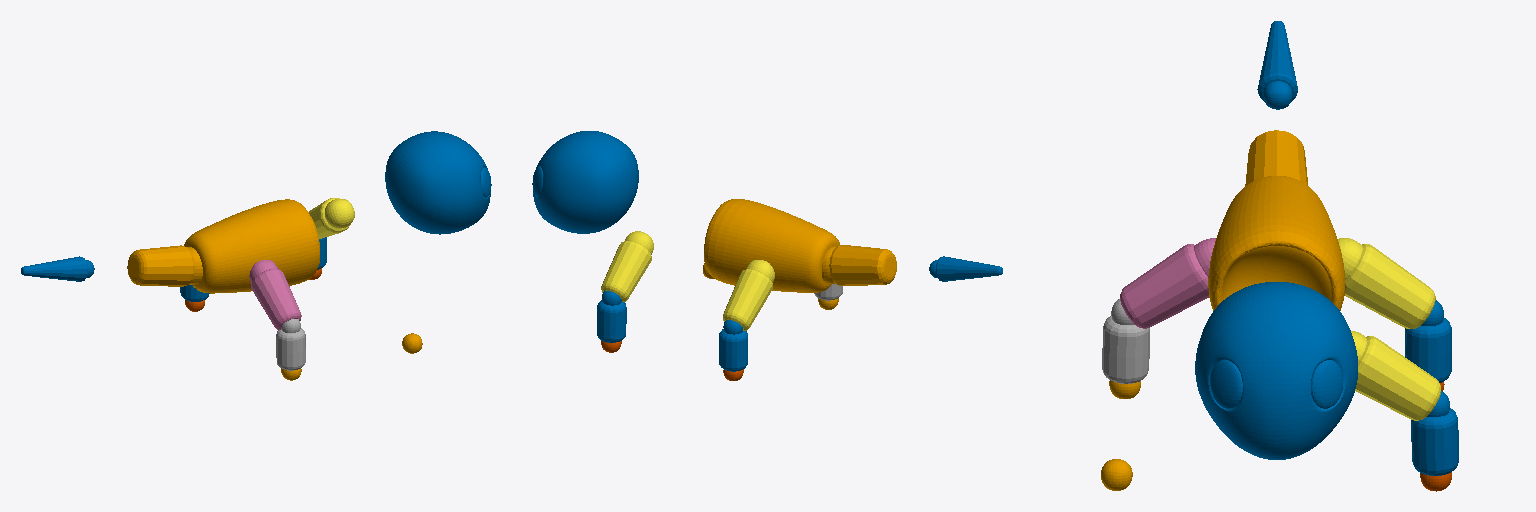
The robot description file, URDF, robot "lizard_robot":
<?xml version="1.0"?>
<robot name="lizard_robot">
  <link name="base_link">
    <inertial>
      <origin xyz="-0.562282 -0.000000 0.000041" rpy="0 0 0"/>
      <mass value="11.2332"/>
      <inertia ixx="0.859276" ixy="0" ixz="0" iyy="1.332609" iyz="0" izz="1.332609"/>
    </inertial>
    <visual>
      <origin xyz="0 0 0" rpy="0 0 0"/>
      <geometry><mesh filename="meshes/visual/base_link_visual.obj"/></geometry>
    </visual>
    <collision>
      <origin xyz="0 0 0" rpy="0 0 0"/>
      <geometry><mesh filename="meshes/collision/base_link_collision.obj"/></geometry>
    </collision>
  </link>
  <link name="chest_yaw">
    <inertial>
      <origin xyz="0.000000 0.000000 0.000000" rpy="0 0 0"/>
      <mass value="0.0500"/>
      <inertia ixx="0.000001" ixy="0" ixz="0" iyy="0.000001" iyz="0" izz="0.000001"/>
    </inertial>
  </link>
  <link name="chest_pitch">
    <inertial>
      <origin xyz="0.349711 -0.000000 0.000041" rpy="0 0 0"/>
      <mass value="15.7685"/>
      <inertia ixx="1.296527" ixy="0" ixz="0" iyy="2.740834" iyz="0" izz="2.740834"/>
    </inertial>
    <visual>
      <origin xyz="0 0 0" rpy="0 0 0"/>
      <geometry><mesh filename="meshes/visual/chest_pitch_visual.obj"/></geometry>
    </visual>
    <collision>
      <origin xyz="0 0 0" rpy="0 0 0"/>
      <geometry><mesh filename="meshes/collision/chest_pitch_collision.obj"/></geometry>
    </collision>
  </link>
  <link name="neck_yaw">
    <inertial>
      <origin xyz="0.000000 0.000000 0.000000" rpy="0 0 0"/>
      <mass value="0.0500"/>
      <inertia ixx="0.000001" ixy="0" ixz="0" iyy="0.000001" iyz="0" izz="0.000001"/>
    </inertial>
  </link>
  <link name="neck_pitch">
    <inertial>
      <origin xyz="-0.081966 -0.000000 0.001171" rpy="0 0 0"/>
      <mass value="11.0551"/>
      <inertia ixx="1.225541" ixy="0" ixz="0" iyy="1.263723" iyz="0" izz="1.239014"/>
    </inertial>
    <visual>
      <origin xyz="0 0 0" rpy="0 0 0"/>
      <geometry><mesh filename="meshes/visual/neck_pitch_visual.obj"/></geometry>
    </visual>
    <collision>
      <origin xyz="0 0 0" rpy="0 0 0"/>
      <geometry><mesh filename="meshes/collision/neck_pitch_collision.obj"/></geometry>
    </collision>
  </link>
  <link name="rf_hip">
    <inertial>
      <origin xyz="0.000000 0.000000 0.000000" rpy="0 0 0"/>
      <mass value="0.0500"/>
      <inertia ixx="0.000001" ixy="0" ixz="0" iyy="0.000001" iyz="0" izz="0.000001"/>
    </inertial>
  </link>
  <link name="rf_haa">
    <inertial>
      <origin xyz="-0.000000 -0.167165 -0.114282" rpy="0 0 0"/>
      <mass value="2.9020"/>
      <inertia ixx="0.132824" ixy="0" ixz="0" iyy="0.072588" iyz="0" izz="0.099259"/>
    </inertial>
    <visual>
      <origin xyz="0 0 0" rpy="0 0 0"/>
      <geometry><mesh filename="meshes/visual/rf_haa_visual.obj"/></geometry>
    </visual>
    <collision>
      <origin xyz="0 0 0" rpy="0 0 0"/>
      <geometry><mesh filename="meshes/collision/rf_haa_collision.obj"/></geometry>
    </collision>
  </link>
  <link name="rf_hfe">
    <inertial>
      <origin xyz="0.000021 -0.004814 -0.136882" rpy="0 0 0"/>
      <mass value="1.6768"/>
      <inertia ixx="0.033990" ixy="0" ixz="0" iyy="0.033734" iyz="0" izz="0.015607"/>
    </inertial>
    <visual>
      <origin xyz="0 0 0" rpy="0 0 0"/>
      <geometry><mesh filename="meshes/visual/rf_hfe_visual.obj"/></geometry>
    </visual>
    <collision>
      <origin xyz="0 0 0" rpy="0 0 0"/>
      <geometry><mesh filename="meshes/collision/rf_hfe_collision.obj"/></geometry>
    </collision>
  </link>
  <link name="rf_kfe">
    <inertial>
      <origin xyz="0.000000 0.000000 0.000000" rpy="0 0 0"/>
      <mass value="0.3730"/>
      <inertia ixx="0.001553" ixy="0" ixz="0" iyy="0.001554" iyz="0" izz="0.001554"/>
    </inertial>
    <visual>
      <origin xyz="0 0 0" rpy="0 0 0"/>
      <geometry><mesh filename="meshes/visual/rf_kfe_visual.obj"/></geometry>
    </visual>
  </link>
  <link name="rf_foot">
    <inertial>
      <origin xyz="0.000004 -0.016158 0.008439" rpy="0 0 0"/>
      <mass value="1.5275"/>
      <inertia ixx="0.026315" ixy="0" ixz="0" iyy="0.021240" iyz="0" izz="0.040519"/>
    </inertial>
    <visual>
      <origin xyz="0 0 0" rpy="0 0 0"/>
      <geometry><mesh filename="meshes/visual/rf_foot_visual.obj"/></geometry>
    </visual>
    <collision>
      <origin xyz="0 0 0" rpy="0 0 0"/>
      <geometry><mesh filename="meshes/collision/rf_foot_collision.obj"/></geometry>
    </collision>
  </link>
  <link name="lf_hip">
    <inertial>
      <origin xyz="0.000000 0.000000 0.000000" rpy="0 0 0"/>
      <mass value="0.0500"/>
      <inertia ixx="0.000001" ixy="0" ixz="0" iyy="0.000001" iyz="0" izz="0.000001"/>
    </inertial>
  </link>
  <link name="lf_haa">
    <inertial>
      <origin xyz="0.000000 0.167165 -0.114282" rpy="0 0 0"/>
      <mass value="2.9020"/>
      <inertia ixx="0.132824" ixy="0" ixz="0" iyy="0.072588" iyz="0" izz="0.099259"/>
    </inertial>
    <visual>
      <origin xyz="0 0 0" rpy="0 0 0"/>
      <geometry><mesh filename="meshes/visual/lf_haa_visual.obj"/></geometry>
    </visual>
    <collision>
      <origin xyz="0 0 0" rpy="0 0 0"/>
      <geometry><mesh filename="meshes/collision/lf_haa_collision.obj"/></geometry>
    </collision>
  </link>
  <link name="lf_hfe">
    <inertial>
      <origin xyz="0.000000 0.004814 -0.136882" rpy="0 0 0"/>
      <mass value="1.6768"/>
      <inertia ixx="0.033990" ixy="0" ixz="0" iyy="0.033734" iyz="0" izz="0.015607"/>
    </inertial>
    <visual>
      <origin xyz="0 0 0" rpy="0 0 0"/>
      <geometry><mesh filename="meshes/visual/lf_hfe_visual.obj"/></geometry>
    </visual>
    <collision>
      <origin xyz="0 0 0" rpy="0 0 0"/>
      <geometry><mesh filename="meshes/collision/lf_hfe_collision.obj"/></geometry>
    </collision>
  </link>
  <link name="lf_kfe">
    <inertial>
      <origin xyz="0.000000 -0.000000 0.000000" rpy="0 0 0"/>
      <mass value="0.3730"/>
      <inertia ixx="0.001553" ixy="0" ixz="0" iyy="0.001554" iyz="0" izz="0.001554"/>
    </inertial>
    <visual>
      <origin xyz="0 0 0" rpy="0 0 0"/>
      <geometry><mesh filename="meshes/visual/lf_kfe_visual.obj"/></geometry>
    </visual>
  </link>
  <link name="lf_foot">
    <inertial>
      <origin xyz="-0.000002 0.016158 0.008439" rpy="0 0 0"/>
      <mass value="1.5275"/>
      <inertia ixx="0.026315" ixy="0" ixz="0" iyy="0.021240" iyz="0" izz="0.040519"/>
    </inertial>
    <visual>
      <origin xyz="0 0 0" rpy="0 0 0"/>
      <geometry><mesh filename="meshes/visual/lf_foot_visual.obj"/></geometry>
    </visual>
    <collision>
      <origin xyz="0 0 0" rpy="0 0 0"/>
      <geometry><mesh filename="meshes/collision/lf_foot_collision.obj"/></geometry>
    </collision>
  </link>
  <link name="tail1_yaw">
    <inertial>
      <origin xyz="0.000000 0.000000 0.000000" rpy="0 0 0"/>
      <mass value="0.0500"/>
      <inertia ixx="0.000001" ixy="0" ixz="0" iyy="0.000001" iyz="0" izz="0.000001"/>
    </inertial>
  </link>
  <link name="tail1_pitch">
    <inertial>
      <origin xyz="-0.189871 -0.000016 0.042445" rpy="0 0 0"/>
      <mass value="3.9061"/>
      <inertia ixx="0.082824" ixy="0" ixz="0" iyy="0.201096" iyz="0" izz="0.188209"/>
    </inertial>
    <visual>
      <origin xyz="0 0 0" rpy="0 0 0"/>
      <geometry><mesh filename="meshes/visual/tail1_pitch_visual.obj"/></geometry>
    </visual>
    <collision>
      <origin xyz="0 0 0" rpy="0 0 0"/>
      <geometry><mesh filename="meshes/collision/tail1_pitch_collision.obj"/></geometry>
    </collision>
  </link>
  <link name="tail2_yaw">
    <inertial>
      <origin xyz="0.000000 0.000000 0.000000" rpy="0 0 0"/>
      <mass value="0.0500"/>
      <inertia ixx="0.000001" ixy="0" ixz="0" iyy="0.000001" iyz="0" izz="0.000001"/>
    </inertial>
  </link>
  <link name="tail2_pitch">
    <inertial>
      <origin xyz="-0.151109 -0.000150 0.142132" rpy="0 0 0"/>
      <mass value="2.3105"/>
      <inertia ixx="0.032569" ixy="0" ixz="0" iyy="0.072166" iyz="0" izz="0.067493"/>
    </inertial>
    <visual>
      <origin xyz="0 0 0" rpy="0 0 0"/>
      <geometry><mesh filename="meshes/visual/tail2_pitch_visual.obj"/></geometry>
    </visual>
    <collision>
      <origin xyz="0 0 0" rpy="0 0 0"/>
      <geometry><mesh filename="meshes/collision/tail2_pitch_collision.obj"/></geometry>
    </collision>
  </link>
  <link name="tail3_yaw">
    <inertial>
      <origin xyz="0.000000 0.000000 0.000000" rpy="0 0 0"/>
      <mass value="0.0500"/>
      <inertia ixx="0.000001" ixy="0" ixz="0" iyy="0.000001" iyz="0" izz="0.000001"/>
    </inertial>
  </link>
  <link name="tail3_pitch">
    <inertial>
      <origin xyz="-0.228054 -0.000235 0.221088" rpy="0 0 0"/>
      <mass value="1.5595"/>
      <inertia ixx="0.012586" ixy="0" ixz="0" iyy="0.062226" iyz="0" izz="0.060246"/>
    </inertial>
    <visual>
      <origin xyz="0 0 0" rpy="0 0 0"/>
      <geometry><mesh filename="meshes/visual/tail3_pitch_visual.obj"/></geometry>
    </visual>
    <collision>
      <origin xyz="0 0 0" rpy="0 0 0"/>
      <geometry><mesh filename="meshes/collision/tail3_pitch_collision.obj"/></geometry>
    </collision>
  </link>
  <link name="rr_hip">
    <inertial>
      <origin xyz="0.000000 0.000000 0.000000" rpy="0 0 0"/>
      <mass value="0.0500"/>
      <inertia ixx="0.000001" ixy="0" ixz="0" iyy="0.000001" iyz="0" izz="0.000001"/>
    </inertial>
  </link>
  <link name="rr_haa">
    <inertial>
      <origin xyz="-0.000000 -0.167165 -0.114282" rpy="0 0 0"/>
      <mass value="2.9020"/>
      <inertia ixx="0.132824" ixy="0" ixz="0" iyy="0.072588" iyz="0" izz="0.099259"/>
    </inertial>
    <visual>
      <origin xyz="0 0 0" rpy="0 0 0"/>
      <geometry><mesh filename="meshes/visual/rr_haa_visual.obj"/></geometry>
    </visual>
    <collision>
      <origin xyz="0 0 0" rpy="0 0 0"/>
      <geometry><mesh filename="meshes/collision/rr_haa_collision.obj"/></geometry>
    </collision>
  </link>
  <link name="rr_hfe">
    <inertial>
      <origin xyz="-0.000000 -0.004814 -0.136881" rpy="0 0 0"/>
      <mass value="1.6768"/>
      <inertia ixx="0.033990" ixy="0" ixz="0" iyy="0.033734" iyz="0" izz="0.015607"/>
    </inertial>
    <visual>
      <origin xyz="0 0 0" rpy="0 0 0"/>
      <geometry><mesh filename="meshes/visual/rr_hfe_visual.obj"/></geometry>
    </visual>
    <collision>
      <origin xyz="0 0 0" rpy="0 0 0"/>
      <geometry><mesh filename="meshes/collision/rr_hfe_collision.obj"/></geometry>
    </collision>
  </link>
  <link name="rr_kfe">
    <inertial>
      <origin xyz="0.000000 -0.000000 -0.000000" rpy="0 0 0"/>
      <mass value="0.3730"/>
      <inertia ixx="0.001553" ixy="0" ixz="0" iyy="0.001554" iyz="0" izz="0.001554"/>
    </inertial>
    <visual>
      <origin xyz="0 0 0" rpy="0 0 0"/>
      <geometry><mesh filename="meshes/visual/rr_kfe_visual.obj"/></geometry>
    </visual>
  </link>
  <link name="rr_foot">
    <inertial>
      <origin xyz="0.000002 -0.016158 0.008438" rpy="0 0 0"/>
      <mass value="1.5275"/>
      <inertia ixx="0.026315" ixy="0" ixz="0" iyy="0.021240" iyz="0" izz="0.040519"/>
    </inertial>
    <visual>
      <origin xyz="0 0 0" rpy="0 0 0"/>
      <geometry><mesh filename="meshes/visual/rr_foot_visual.obj"/></geometry>
    </visual>
    <collision>
      <origin xyz="0 0 0" rpy="0 0 0"/>
      <geometry><mesh filename="meshes/collision/rr_foot_collision.obj"/></geometry>
    </collision>
  </link>
  <link name="rl_hip">
    <inertial>
      <origin xyz="0.000000 0.000000 0.000000" rpy="0 0 0"/>
      <mass value="0.0500"/>
      <inertia ixx="0.000001" ixy="0" ixz="0" iyy="0.000001" iyz="0" izz="0.000001"/>
    </inertial>
  </link>
  <link name="rl_haa">
    <inertial>
      <origin xyz="0.000000 0.165222 -0.117665" rpy="0 0 0"/>
      <mass value="2.9020"/>
      <inertia ixx="0.133295" ixy="0" ixz="0" iyy="0.074134" iyz="0" izz="0.098185"/>
    </inertial>
    <visual>
      <origin xyz="0 0 0" rpy="0 0 0"/>
      <geometry><mesh filename="meshes/visual/rl_haa_visual.obj"/></geometry>
    </visual>
    <collision>
      <origin xyz="0 0 0" rpy="0 0 0"/>
      <geometry><mesh filename="meshes/collision/rl_haa_collision.obj"/></geometry>
    </collision>
  </link>
  <link name="rl_hfe">
    <inertial>
      <origin xyz="0.000000 0.000792 -0.136250" rpy="0 0 0"/>
      <mass value="1.6768"/>
      <inertia ixx="0.033587" ixy="0" ixz="0" iyy="0.033587" iyz="0" izz="0.015351"/>
    </inertial>
    <visual>
      <origin xyz="0 0 0" rpy="0 0 0"/>
      <geometry><mesh filename="meshes/visual/rl_hfe_visual.obj"/></geometry>
    </visual>
    <collision>
      <origin xyz="0 0 0" rpy="0 0 0"/>
      <geometry><mesh filename="meshes/collision/rl_hfe_collision.obj"/></geometry>
    </collision>
  </link>
  <link name="rl_kfe">
    <inertial>
      <origin xyz="-0.000000 0.000000 -0.000000" rpy="0 0 0"/>
      <mass value="0.3730"/>
      <inertia ixx="0.001554" ixy="0" ixz="0" iyy="0.001554" iyz="0" izz="0.001554"/>
    </inertial>
    <visual>
      <origin xyz="0 0 0" rpy="0 0 0"/>
      <geometry><mesh filename="meshes/visual/rl_kfe_visual.obj"/></geometry>
    </visual>
  </link>
  <link name="rl_foot">
    <inertial>
      <origin xyz="-0.000002 0.015693 0.009214" rpy="0 0 0"/>
      <mass value="1.5275"/>
      <inertia ixx="0.026317" ixy="0" ixz="0" iyy="0.021227" iyz="0" izz="0.040534"/>
    </inertial>
    <visual>
      <origin xyz="0 0 0" rpy="0 0 0"/>
      <geometry><mesh filename="meshes/visual/rl_foot_visual.obj"/></geometry>
    </visual>
    <collision>
      <origin xyz="0 0 0" rpy="0 0 0"/>
      <geometry><mesh filename="meshes/collision/rl_foot_collision.obj"/></geometry>
    </collision>
  </link>
  <joint name="chest_yaw_joint" type="revolute">
    <parent link="base_link"/>
    <child link="chest_yaw"/>
    <origin xyz="0.000000 0.000000 0.000000" rpy="0 0 0"/>
    <axis xyz="0 0 1"/>
    <limit lower="-0.60" upper="0.60" effort="80" velocity="4"/>
  </joint>
  <joint name="chest_pitch_joint" type="revolute">
    <parent link="chest_yaw"/>
    <child link="chest_pitch"/>
    <origin xyz="-0.005000 0.000000 0.000000" rpy="0 0 0"/>
    <axis xyz="0 1 0"/>
    <limit lower="-0.50" upper="0.50" effort="80" velocity="4"/>
  </joint>
  <joint name="neck_yaw_joint" type="revolute">
    <parent link="chest_pitch"/>
    <child link="neck_yaw"/>
    <origin xyz="1.261300 -0.000000 0.189500" rpy="0 0 0"/>
    <axis xyz="0 0 1"/>
    <limit lower="-0.60" upper="0.60" effort="80" velocity="4"/>
  </joint>
  <joint name="neck_pitch_joint" type="revolute">
    <parent link="neck_yaw"/>
    <child link="neck_pitch"/>
    <origin xyz="0.005000 -0.000000 0.000000" rpy="0 0 0"/>
    <axis xyz="0 1 0"/>
    <limit lower="-0.50" upper="0.50" effort="80" velocity="4"/>
  </joint>
  <joint name="rf_hip_joint" type="revolute">
    <parent link="chest_pitch"/>
    <child link="rf_hip"/>
    <origin xyz="0.480451 -0.363333 -0.055936" rpy="0 0 0"/>
    <axis xyz="0 0 1"/>
    <limit lower="-0.60" upper="0.60" effort="120" velocity="8"/>
  </joint>
  <joint name="rf_haa_joint" type="revolute">
    <parent link="rf_hip"/>
    <child link="rf_haa"/>
    <origin xyz="0.000000 0.000000 0.000000" rpy="0 0 0"/>
    <axis xyz="-1 0 0"/>
    <limit lower="-0.60" upper="0.60" effort="120" velocity="8"/>
  </joint>
  <joint name="rf_hfe_joint" type="revolute">
    <parent link="rf_haa"/>
    <child link="rf_hfe"/>
    <origin xyz="0.000000 -0.418806 -0.276146" rpy="0 0 0"/>
    <axis xyz="-1 0 0"/>
    <limit lower="-1.20" upper="1.20" effort="150" velocity="8"/>
  </joint>
  <joint name="rf_kfe_joint" type="revolute">
    <parent link="rf_hfe"/>
    <child link="rf_kfe"/>
    <origin xyz="0.000043 -0.009685 -0.381998" rpy="0 0 0"/>
    <axis xyz="-1 0 0"/>
    <limit lower="-1.60" upper="1.60" effort="150" velocity="8"/>
  </joint>
  <joint name="rf_foot_joint" type="revolute">
    <parent link="rf_kfe"/>
    <child link="rf_foot"/>
    <origin xyz="0.000005 -0.039465 -0.124654" rpy="0 0 0"/>
    <axis xyz="0 1 0"/>
    <limit lower="-0.50" upper="0.50" effort="30" velocity="6"/>
  </joint>
  <joint name="lf_hip_joint" type="revolute">
    <parent link="chest_pitch"/>
    <child link="lf_hip"/>
    <origin xyz="0.485375 0.359465 -0.055891" rpy="0 0 0"/>
    <axis xyz="0 0 1"/>
    <limit lower="-0.60" upper="0.60" effort="120" velocity="8"/>
  </joint>
  <joint name="lf_haa_joint" type="revolute">
    <parent link="lf_hip"/>
    <child link="lf_haa"/>
    <origin xyz="0.000000 0.000000 0.000000" rpy="0 0 0"/>
    <axis xyz="-1 0 0"/>
    <limit lower="-0.60" upper="0.60" effort="120" velocity="8"/>
  </joint>
  <joint name="lf_hfe_joint" type="revolute">
    <parent link="lf_haa"/>
    <child link="lf_hfe"/>
    <origin xyz="0.000000 0.418791 -0.276154" rpy="0 0 0"/>
    <axis xyz="-1 0 0"/>
    <limit lower="-1.20" upper="1.20" effort="150" velocity="8"/>
  </joint>
  <joint name="lf_kfe_joint" type="revolute">
    <parent link="lf_hfe"/>
    <child link="lf_kfe"/>
    <origin xyz="0.000000 0.009685 -0.381998" rpy="0 0 0"/>
    <axis xyz="-1 0 0"/>
    <limit lower="-1.60" upper="1.60" effort="150" velocity="8"/>
  </joint>
  <joint name="lf_foot_joint" type="revolute">
    <parent link="lf_kfe"/>
    <child link="lf_foot"/>
    <origin xyz="0.000001 0.039465 -0.124654" rpy="0 0 0"/>
    <axis xyz="0 1 0"/>
    <limit lower="-0.50" upper="0.50" effort="30" velocity="6"/>
  </joint>
  <joint name="tail1_yaw_joint" type="revolute">
    <parent link="base_link"/>
    <child link="tail1_yaw"/>
    <origin xyz="-1.069600 0.000000 0.000000" rpy="0 0 0"/>
    <axis xyz="0 0 1"/>
    <limit lower="-0.60" upper="0.60" effort="80" velocity="4"/>
  </joint>
  <joint name="tail1_pitch_joint" type="revolute">
    <parent link="tail1_yaw"/>
    <child link="tail1_pitch"/>
    <origin xyz="-0.005000 0.000000 0.000000" rpy="0 0 0"/>
    <axis xyz="0 1 0"/>
    <limit lower="-0.50" upper="0.50" effort="80" velocity="4"/>
  </joint>
  <joint name="tail2_yaw_joint" type="revolute">
    <parent link="tail1_pitch"/>
    <child link="tail2_yaw"/>
    <origin xyz="-0.539200 0.005500 0.000000" rpy="0 0 0"/>
    <axis xyz="0 0 1"/>
    <limit lower="-0.60" upper="0.60" effort="80" velocity="4"/>
  </joint>
  <joint name="tail2_pitch_joint" type="revolute">
    <parent link="tail2_yaw"/>
    <child link="tail2_pitch"/>
    <origin xyz="-0.005000 0.000000 0.000000" rpy="0 0 0"/>
    <axis xyz="0 1 0"/>
    <limit lower="-0.50" upper="0.50" effort="80" velocity="4"/>
  </joint>
  <joint name="tail3_yaw_joint" type="revolute">
    <parent link="tail2_pitch"/>
    <child link="tail3_yaw"/>
    <origin xyz="-0.429900 0.000000 0.000000" rpy="0 0 0"/>
    <axis xyz="0 0 1"/>
    <limit lower="-0.60" upper="0.60" effort="80" velocity="4"/>
  </joint>
  <joint name="tail3_pitch_joint" type="revolute">
    <parent link="tail3_yaw"/>
    <child link="tail3_pitch"/>
    <origin xyz="-0.005000 0.000000 0.000000" rpy="0 0 0"/>
    <axis xyz="0 1 0"/>
    <limit lower="-0.50" upper="0.50" effort="80" velocity="4"/>
  </joint>
  <joint name="rr_hip_joint" type="revolute">
    <parent link="base_link"/>
    <child link="rr_hip"/>
    <origin xyz="-0.596756 -0.321462 -0.055889" rpy="0 0 0"/>
    <axis xyz="0 0 1"/>
    <limit lower="-0.60" upper="0.60" effort="120" velocity="8"/>
  </joint>
  <joint name="rr_haa_joint" type="revolute">
    <parent link="rr_hip"/>
    <child link="rr_haa"/>
    <origin xyz="0.000000 0.000000 0.000000" rpy="0 0 0"/>
    <axis xyz="-1 0 0"/>
    <limit lower="-0.60" upper="0.60" effort="120" velocity="8"/>
  </joint>
  <joint name="rr_hfe_joint" type="revolute">
    <parent link="rr_haa"/>
    <child link="rr_hfe"/>
    <origin xyz="0.000000 -0.418794 -0.276152" rpy="0 0 0"/>
    <axis xyz="-1 0 0"/>
    <limit lower="-1.20" upper="1.20" effort="150" velocity="8"/>
  </joint>
  <joint name="rr_kfe_joint" type="revolute">
    <parent link="rr_hfe"/>
    <child link="rr_kfe"/>
    <origin xyz="0.000000 -0.009685 -0.381997" rpy="0 0 0"/>
    <axis xyz="-1 0 0"/>
    <limit lower="-1.60" upper="1.60" effort="150" velocity="8"/>
  </joint>
  <joint name="rr_foot_joint" type="revolute">
    <parent link="rr_kfe"/>
    <child link="rr_foot"/>
    <origin xyz="-0.000001 -0.039465 -0.124654" rpy="0 0 0"/>
    <axis xyz="0 1 0"/>
    <limit lower="-0.50" upper="0.50" effort="30" velocity="6"/>
  </joint>
  <joint name="rl_hip_joint" type="revolute">
    <parent link="base_link"/>
    <child link="rl_hip"/>
    <origin xyz="-0.602861 0.335819 -0.055928" rpy="0 0 0"/>
    <axis xyz="0 0 1"/>
    <limit lower="-0.60" upper="0.60" effort="120" velocity="8"/>
  </joint>
  <joint name="rl_haa_joint" type="revolute">
    <parent link="rl_hip"/>
    <child link="rl_haa"/>
    <origin xyz="0.000000 0.000000 0.000000" rpy="0 0 0"/>
    <axis xyz="-1 0 0"/>
    <limit lower="-0.60" upper="0.60" effort="120" velocity="8"/>
  </joint>
  <joint name="rl_hfe_joint" type="revolute">
    <parent link="rl_haa"/>
    <child link="rl_hfe"/>
    <origin xyz="0.000000 0.412877 -0.284945" rpy="0 0 0"/>
    <axis xyz="-1 0 0"/>
    <limit lower="-1.20" upper="1.20" effort="150" velocity="8"/>
  </joint>
  <joint name="rl_kfe_joint" type="revolute">
    <parent link="rl_hfe"/>
    <child link="rl_kfe"/>
    <origin xyz="0.000000 0.001594 -0.382117" rpy="0 0 0"/>
    <axis xyz="-1 0 0"/>
    <limit lower="-1.60" upper="1.60" effort="150" velocity="8"/>
  </joint>
  <joint name="rl_foot_joint" type="revolute">
    <parent link="rl_kfe"/>
    <child link="rl_foot"/>
    <origin xyz="0.000001 0.036816 -0.125462" rpy="0 0 0"/>
    <axis xyz="0 1 0"/>
    <limit lower="-0.50" upper="0.50" effort="30" velocity="6"/>
  </joint>
</robot>

--- Render facts (derived) ---
Views: 3 orthographic renders of the robot side by side, from view 1: azimuth 30°, elevation 25°; view 2: azimuth 150°, elevation 25°; view 3: azimuth 270°, elevation 25°.
Model lizard_robot with 31 links and 30 joints (30 revolute), rooted at base_link, posed all joints at 0.
Visible links, largest first — view 1: neck_pitch, base_link, tail1_pitch, rr_haa, rr_hfe, lf_haa, tail3_pitch; view 2: neck_pitch, base_link, tail1_pitch, rl_haa, lf_haa, lf_hfe, rl_hfe, tail3_pitch; view 3: neck_pitch, base_link, rl_haa, rr_haa, lf_haa, rr_hfe, lf_hfe, tail1_pitch, rl_hfe, tail3_pitch, rf_kfe.
Link boxes in pixels (x1,y1,x2,y2): neck_pitch: (385, 131, 491, 234); base_link: (184, 199, 319, 293); tail1_pitch: (127, 245, 202, 286); rr_haa: (249, 260, 301, 329); rr_hfe: (276, 319, 305, 370); lf_haa: (309, 198, 354, 238); tail3_pitch: (21, 256, 94, 281); neck_pitch: (532, 131, 638, 233); base_link: (704, 199, 840, 292); tail1_pitch: (822, 245, 896, 285); rl_haa: (723, 260, 774, 330); lf_haa: (601, 231, 653, 301); lf_hfe: (597, 291, 626, 342); rl_hfe: (719, 320, 747, 371); tail3_pitch: (929, 256, 1002, 281); neck_pitch: (1195, 282, 1357, 459); base_link: (1208, 176, 1344, 310); rl_haa: (1338, 238, 1435, 328); rr_haa: (1120, 238, 1215, 328); lf_haa: (1351, 331, 1440, 420); rr_hfe: (1102, 299, 1149, 383); lf_hfe: (1411, 391, 1458, 475); tail1_pitch: (1245, 130, 1307, 185); rl_hfe: (1405, 300, 1451, 382); tail3_pitch: (1257, 21, 1297, 109); rf_kfe: (1101, 459, 1132, 490).
Size in the robot's own frame: 4.2 by 1.77 by 1.4 metres.
14 mesh visuals loaded from 22 distinct referenced files (14 OBJ); not drawn: 8 (reference not matched to a file when rendering).
